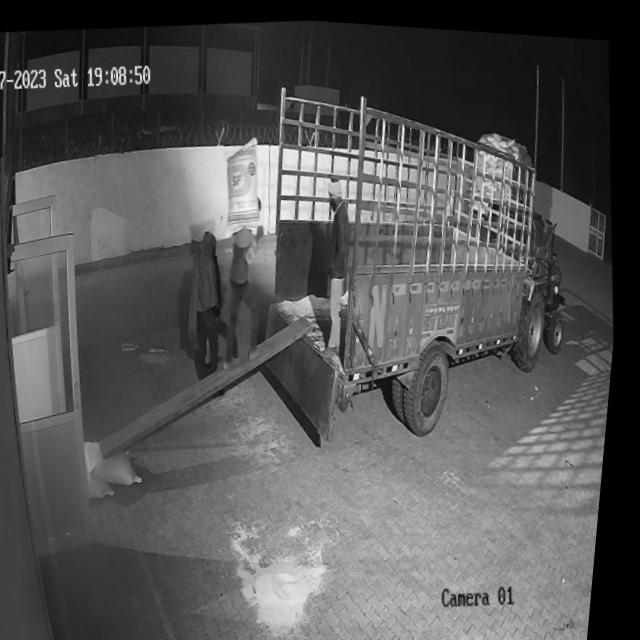sack: (221, 131, 269, 235), (89, 432, 153, 488)
